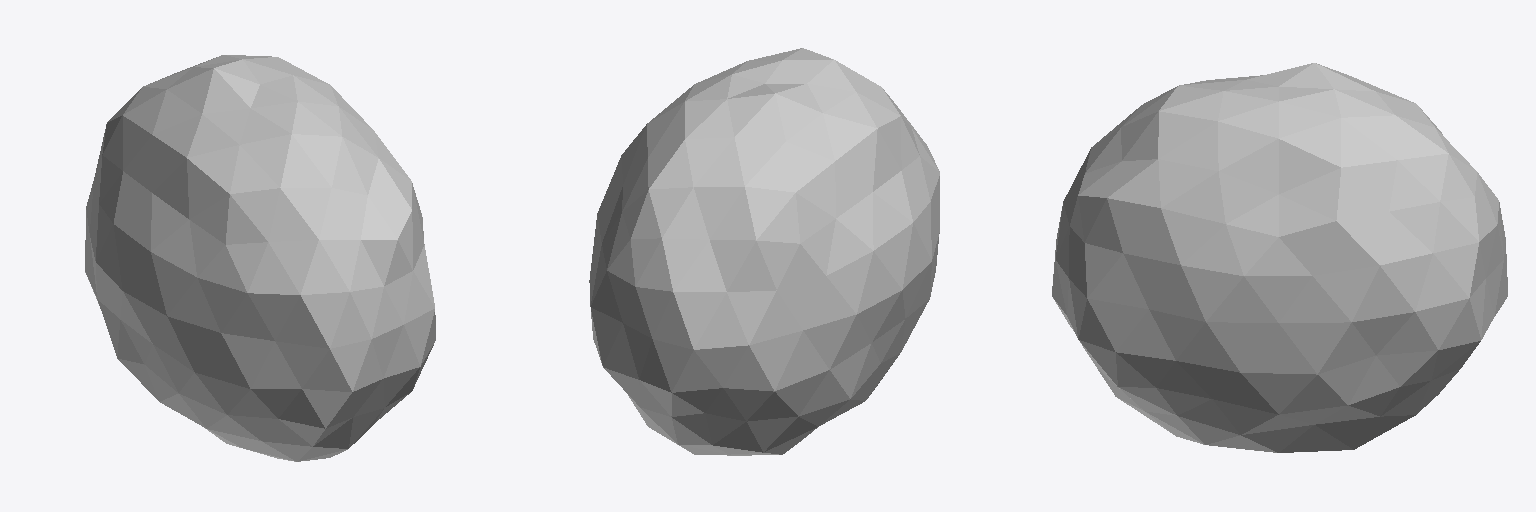
File: asteroid_7.obj
3 renders of one model, left to right at view 1: azimuth 30°, elevation 25°; view 2: azimuth 150°, elevation 25°; view 3: azimuth 270°, elevation 25°, orthographic.
Parts seen in each view (by area): view 1: Asteroid_7; view 2: Asteroid_7; view 3: Asteroid_7.
Part boxes in pixels (x1,y1,x2,y2): Asteroid_7: (85,55,435,461); Asteroid_7: (589,48,939,455); Asteroid_7: (1052,63,1507,452).
Bounding box in the file's own units: 1.71 × 2.21 × 2.52.